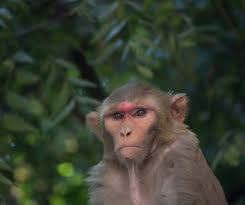monkey: (58, 42, 202, 195)
